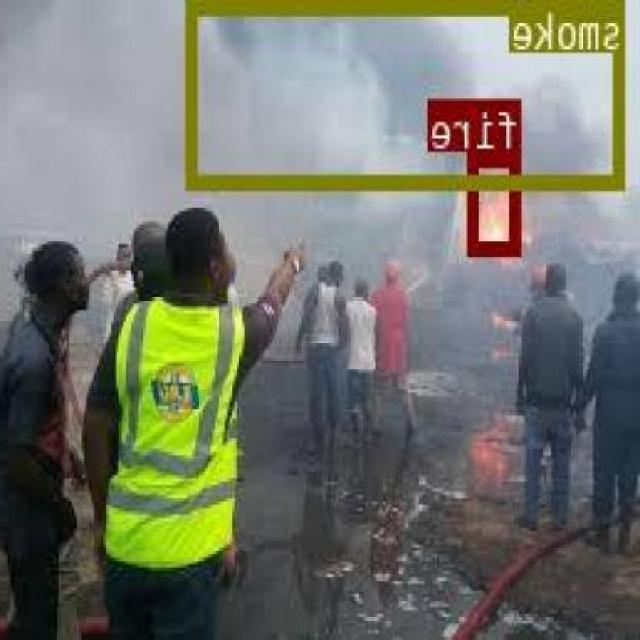Fire: (471, 151, 522, 254)
Smoke: (188, 0, 628, 188)
